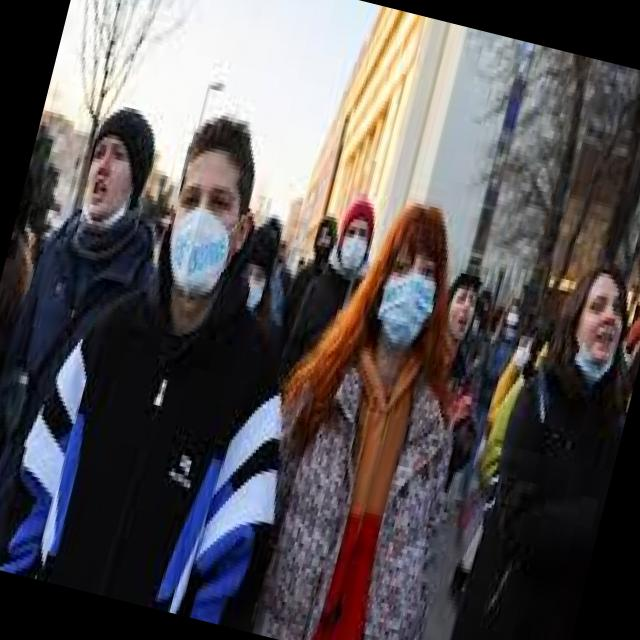Jacket: (0, 242, 322, 630), (215, 334, 483, 640), (0, 194, 163, 588), (438, 345, 636, 640)
